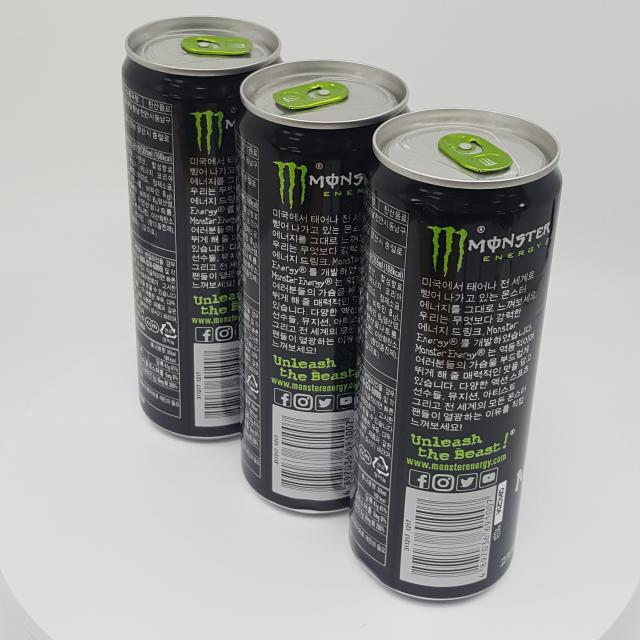--------355ML: (348, 107, 562, 601), (235, 59, 410, 514), (121, 15, 284, 440)
